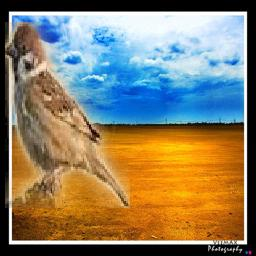Sparrow: (6, 22, 131, 208)
